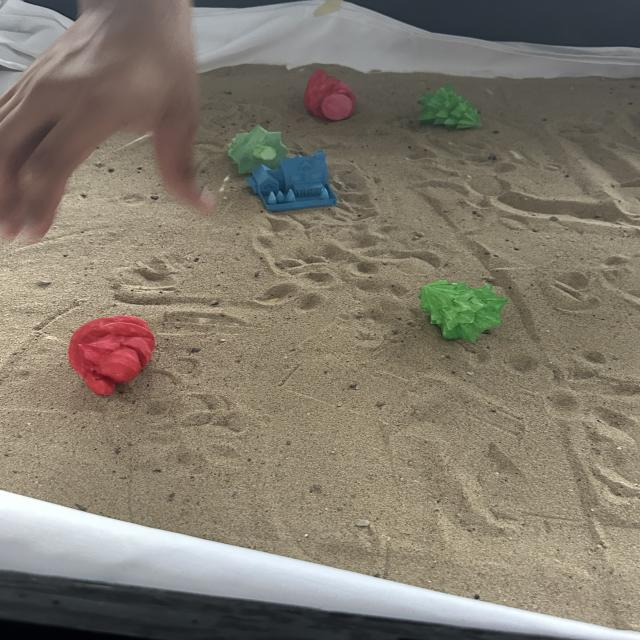fire: (66, 313, 156, 397), (300, 70, 358, 124)
house: (244, 148, 339, 212)
tree: (416, 276, 509, 344), (412, 83, 484, 134), (222, 124, 288, 171)
